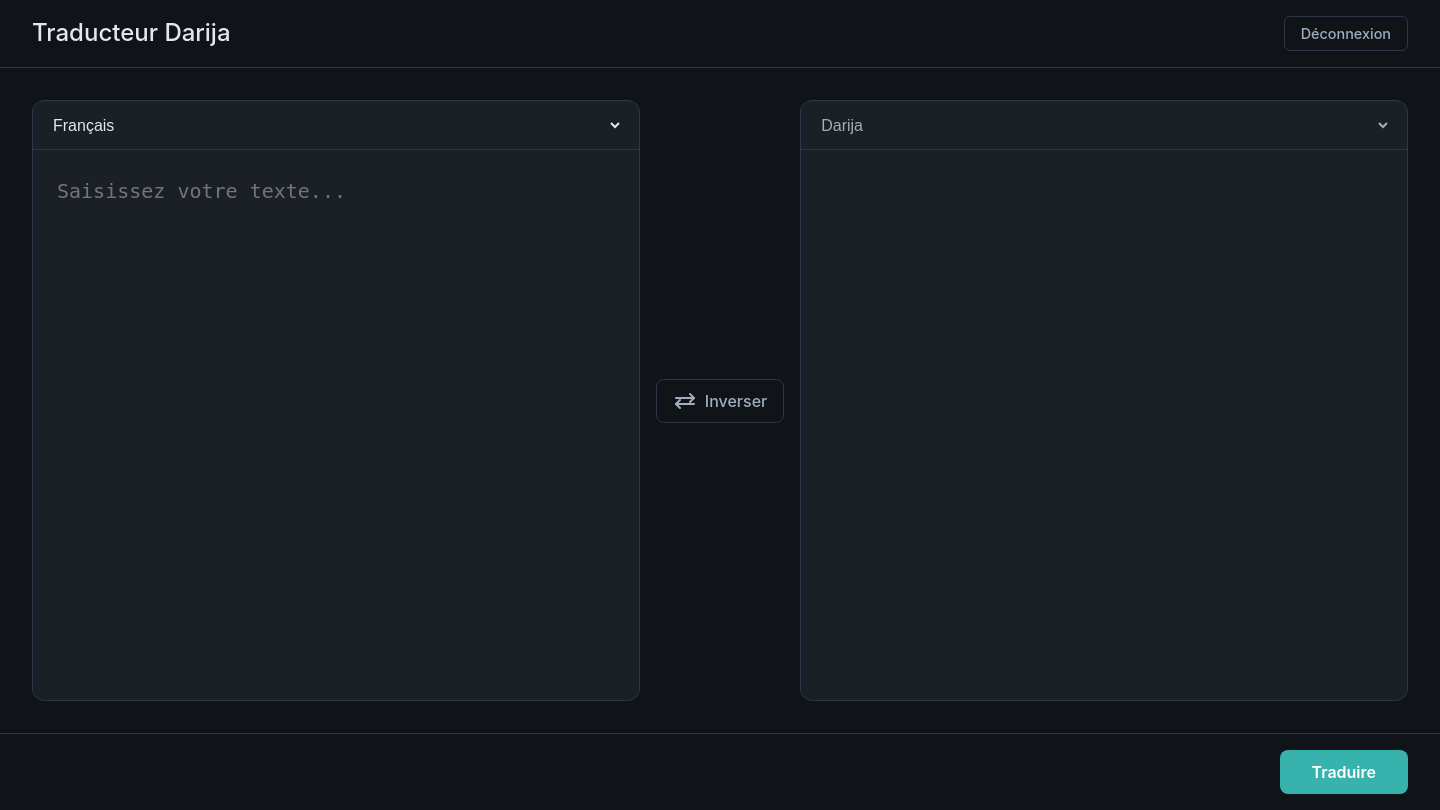
TranslatorPage › devrait appeler l'API de traduction et afficher le résultat
This screenshot has width=1440, height=810.
In the text box with placeholder "Saisissez votre texte...": (336, 425) [33,150,639,700], type "Bonjour à tous"
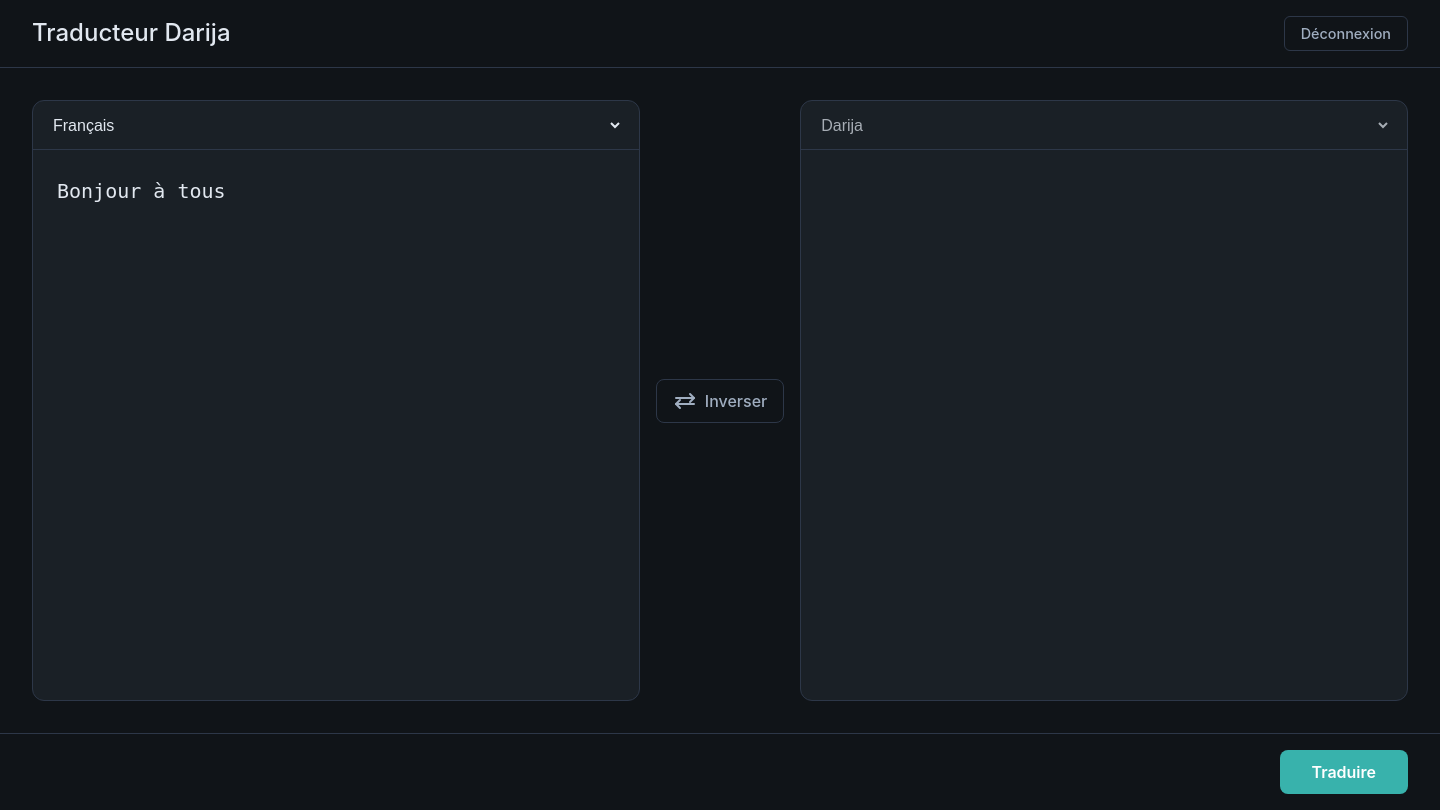
Click the button "Traduire": (1344, 772) [1280,750,1408,794]
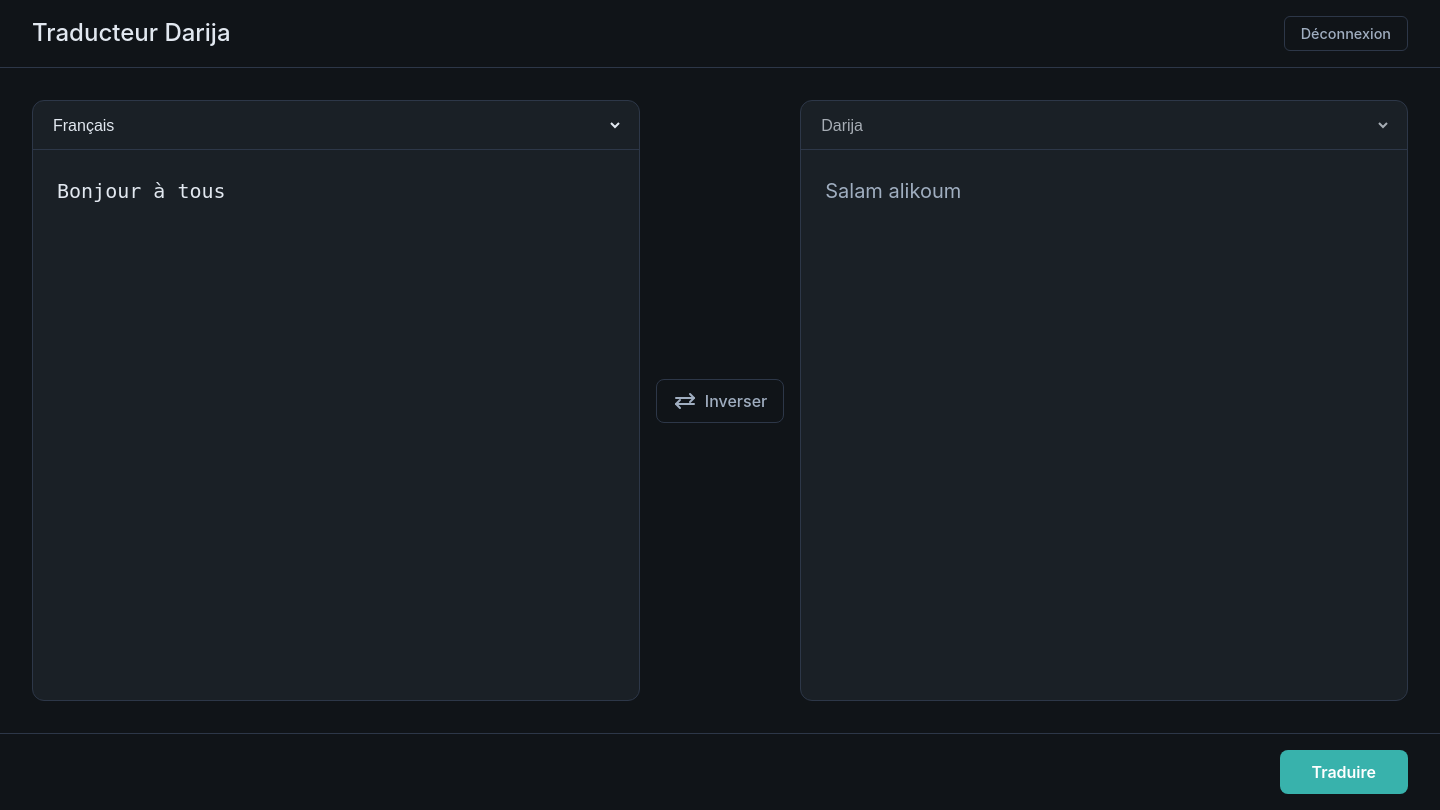
Expected: the text "Salam alikoum" is shown, [825,179,961,203]
